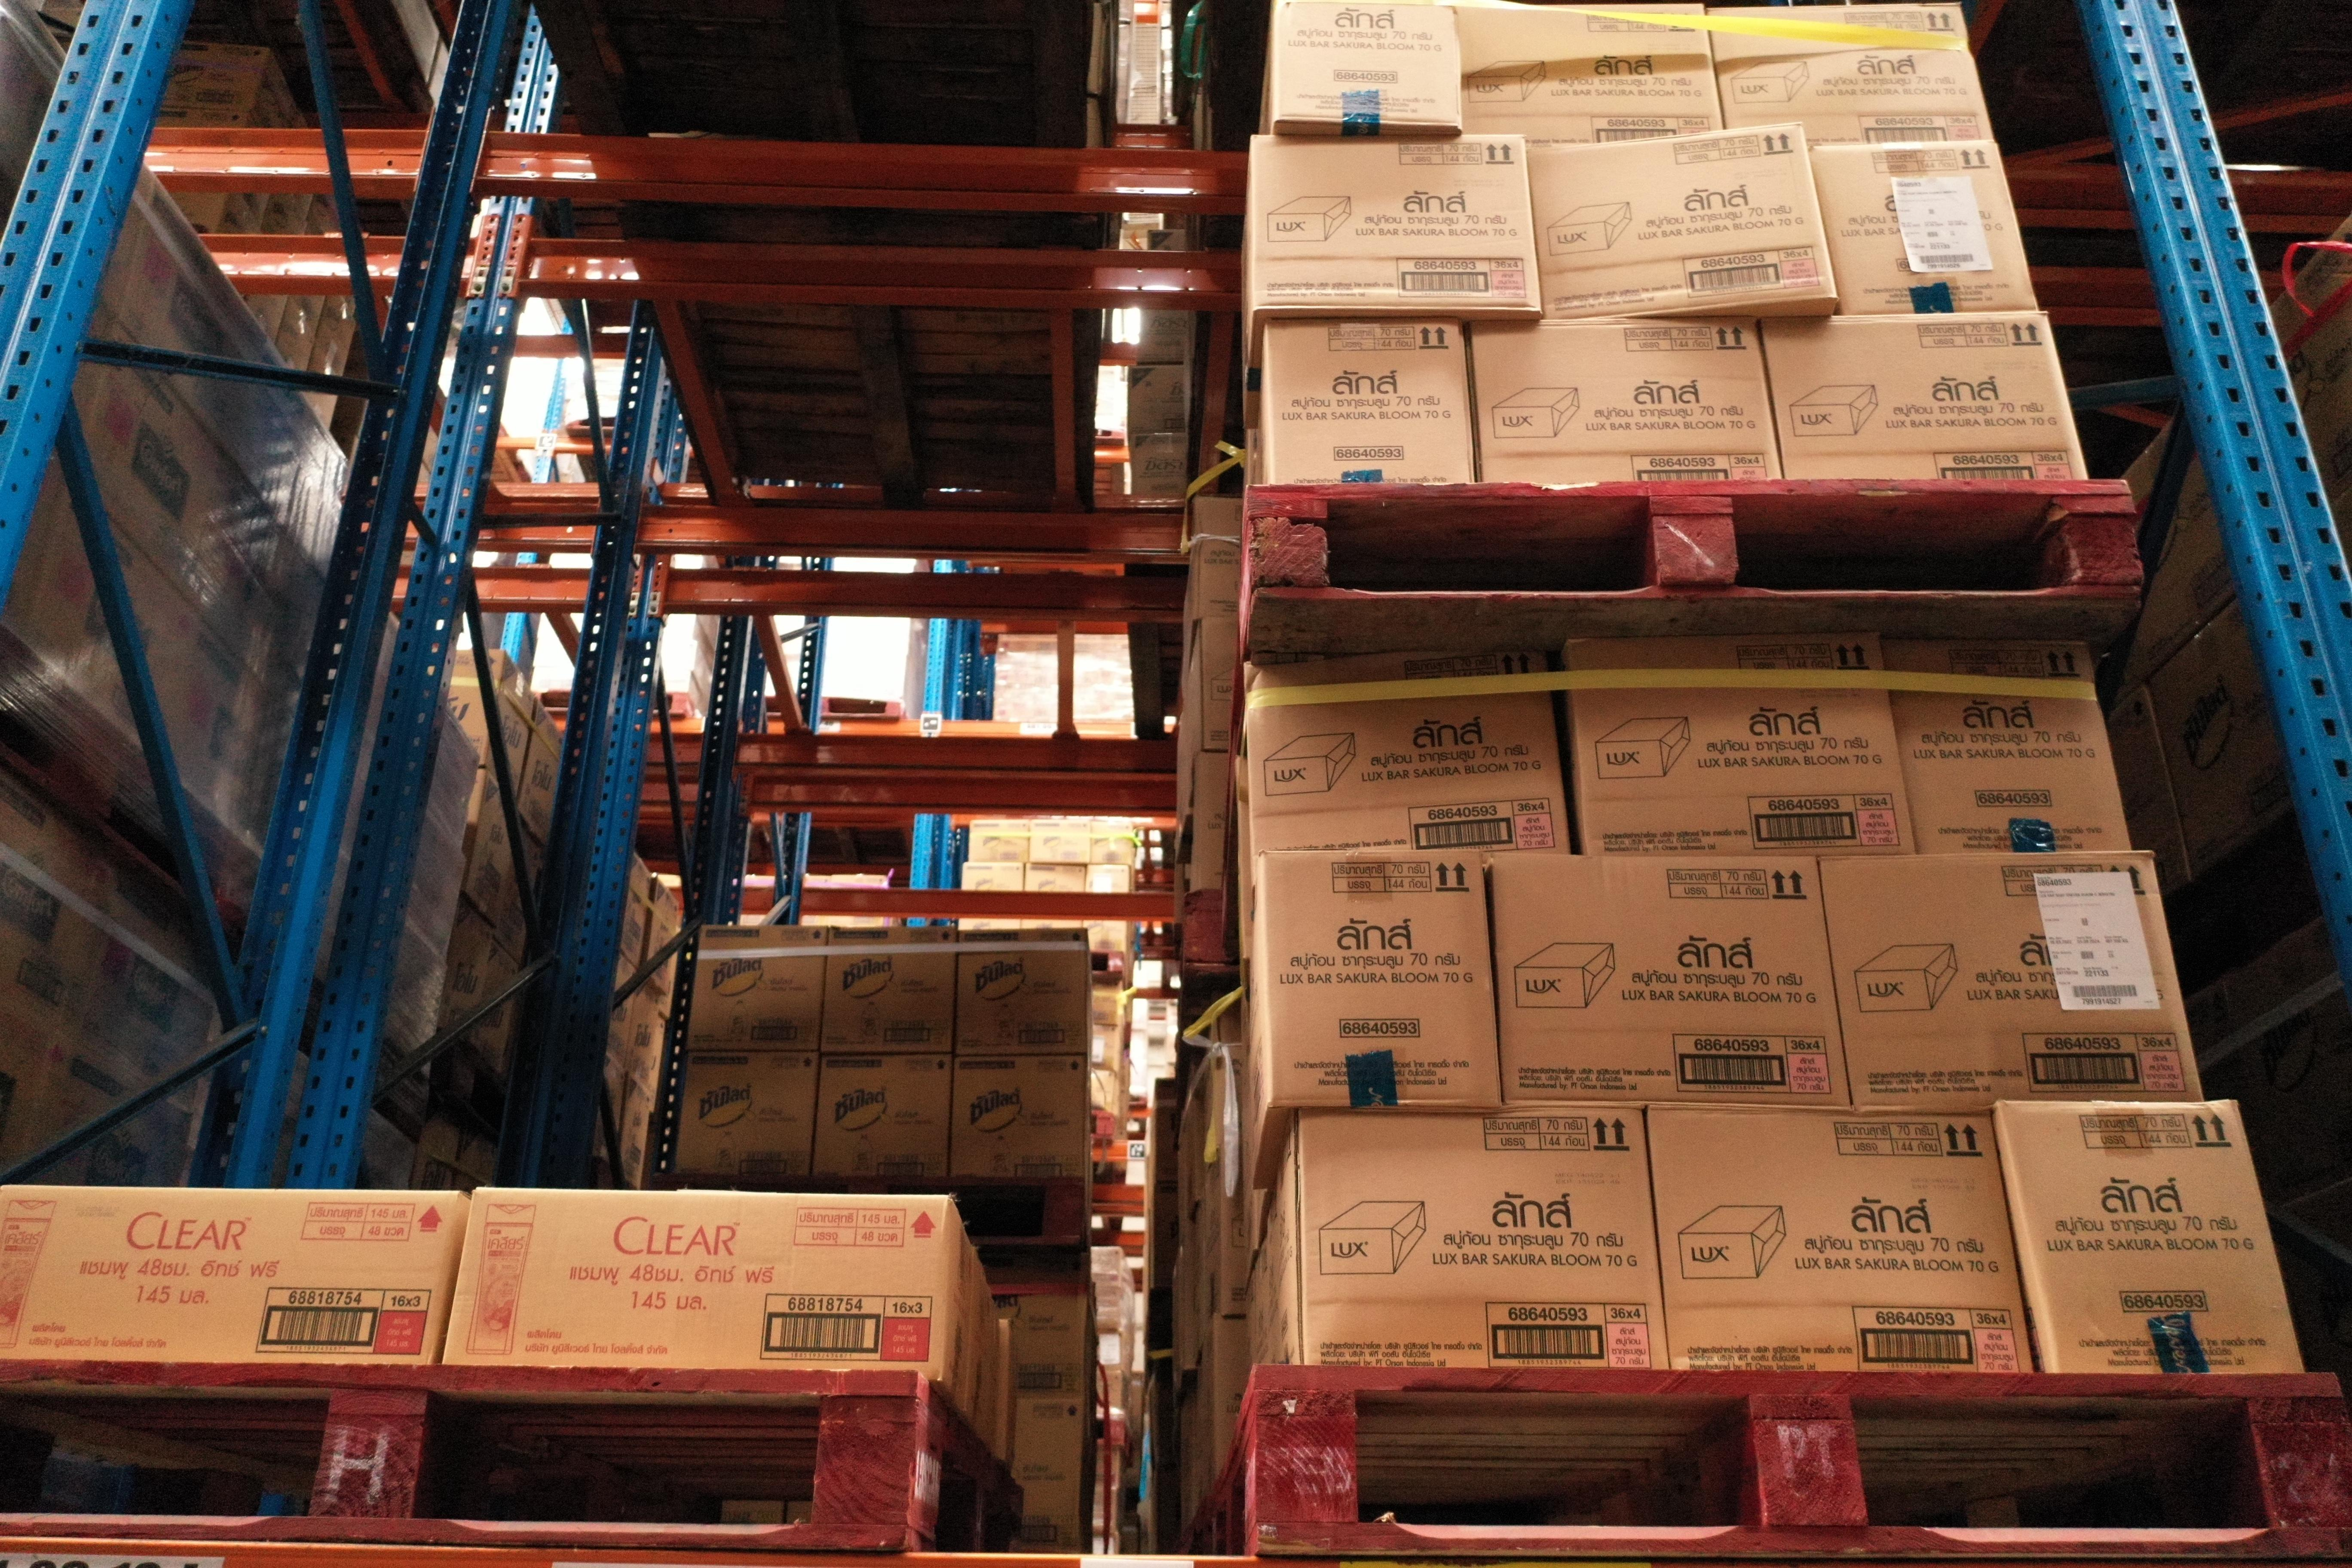-: (1640, 1104, 2035, 1375), (1297, 1104, 1675, 1374), (1815, 854, 2210, 1111), (439, 1186, 950, 1375), (1491, 849, 1853, 1111), (1995, 1101, 2308, 1377), (0, 1181, 464, 1363), (1561, 633, 1918, 857), (1242, 647, 1575, 885), (1526, 115, 1837, 322), (1260, 850, 1500, 1113), (1755, 308, 2084, 486), (1885, 633, 2131, 859), (1246, 129, 1543, 313), (1468, 317, 1787, 488), (1704, 3, 1998, 147), (1808, 142, 2037, 318), (1260, 317, 1477, 488)
2: (674, 1050, 819, 1179), (684, 924, 829, 1052), (808, 1052, 954, 1179), (819, 924, 957, 1057), (954, 927, 1087, 1057), (950, 1053, 1087, 1179)
